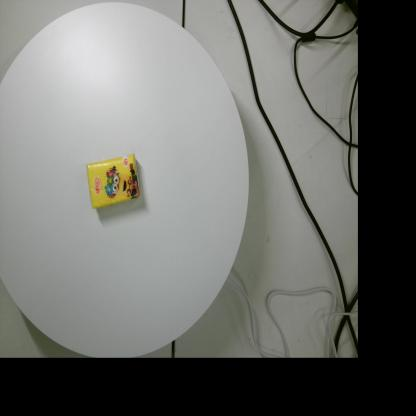Tissue: (86, 154, 140, 210)
